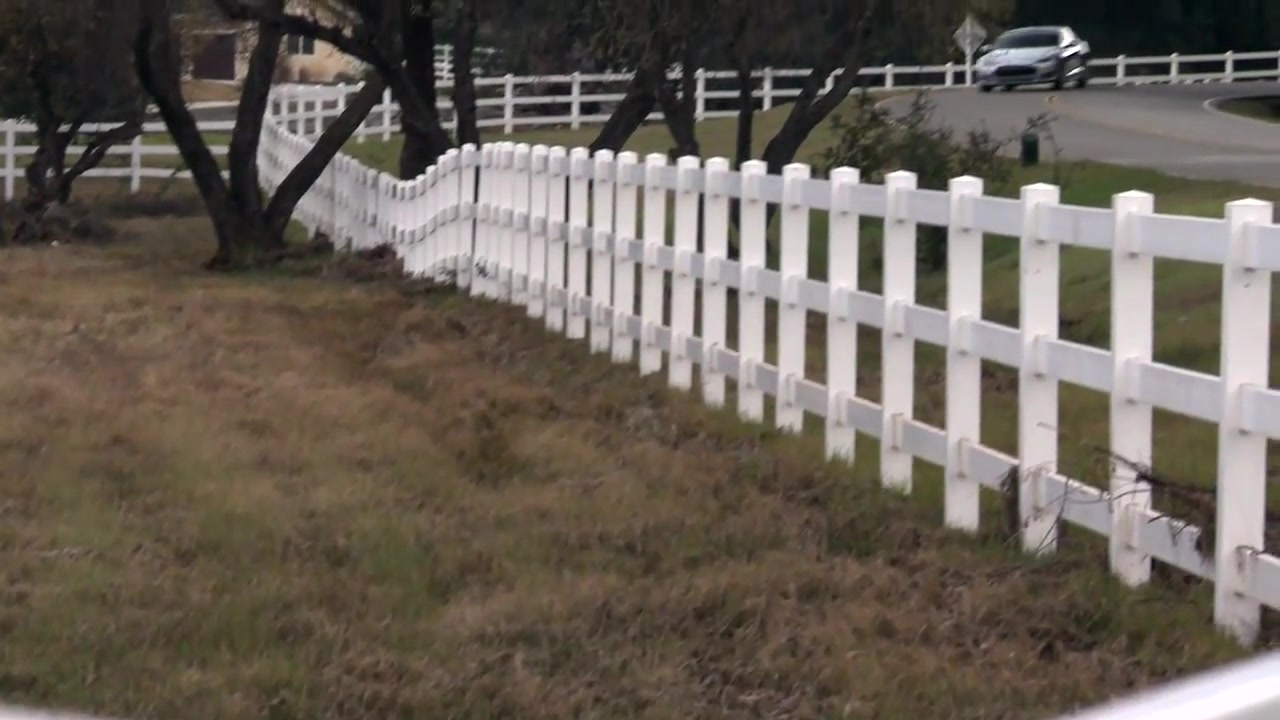car: (969, 23, 1094, 92)
